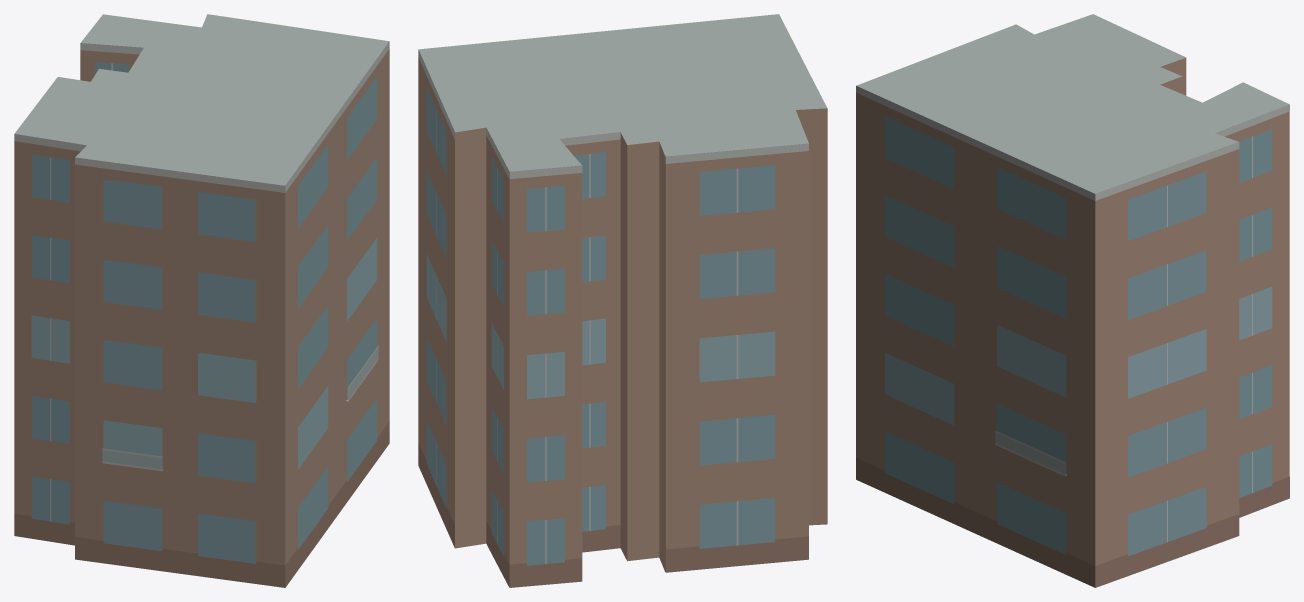
Rendered from survey-upis-32772486.glb.
3 views of the same model, side by side, from view 1: azimuth 30°, elevation 25°; view 2: azimuth 150°, elevation 25°; view 3: azimuth 270°, elevation 25° (orthographic). The views are drawn at different scales.
Parts seen in each view (by area): view 1: survey-upis-32772486.tmp; view 2: survey-upis-32772486.tmp; view 3: survey-upis-32772486.tmp.
Boxes of the visible parts, x1,y1,x2,y2 form: survey-upis-32772486.tmp: [14, 14, 389, 587]; survey-upis-32772486.tmp: [418, 14, 827, 587]; survey-upis-32772486.tmp: [856, 14, 1289, 587].
Size of the model in its own units: 13.42 by 13.69 by 13.67.
